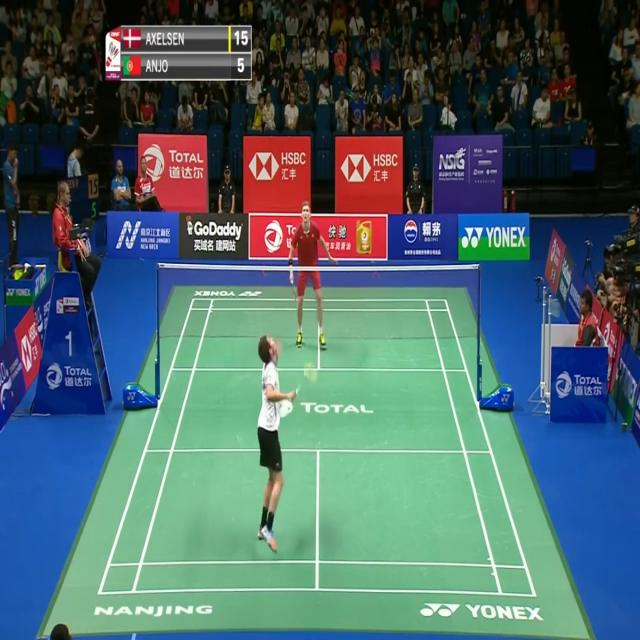Player1: (249, 323, 302, 552)
Player2: (285, 192, 340, 362)
